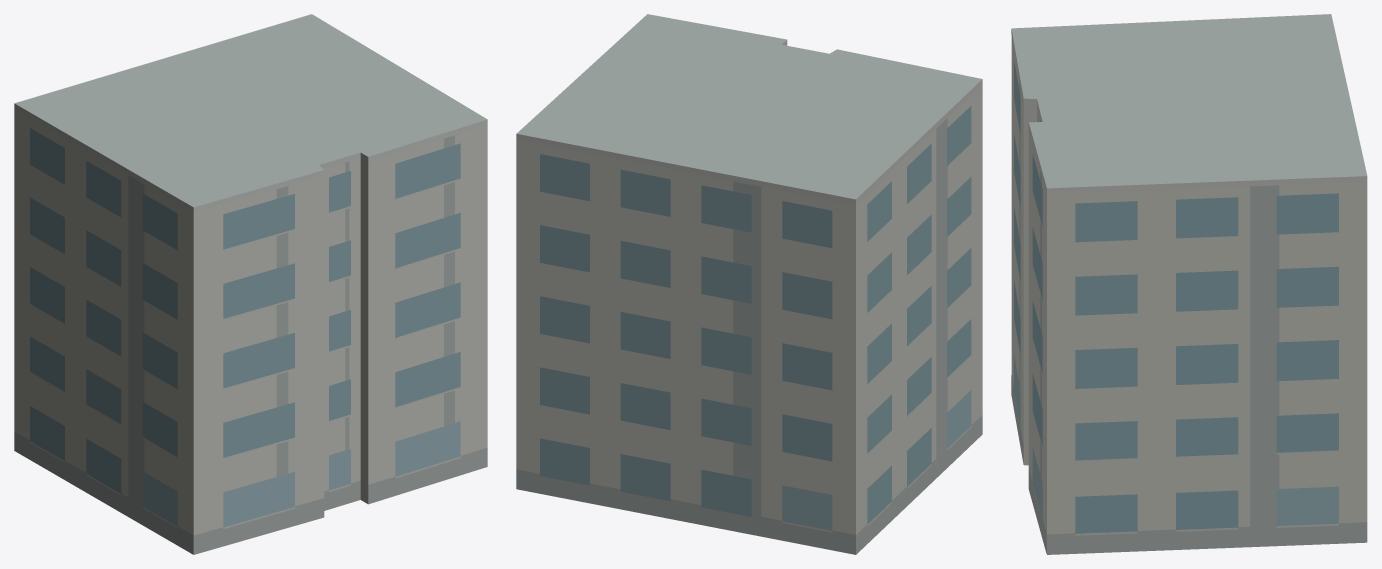
File: survey-upis-32745880.glb
3 views of the same model, side by side, from view 1: azimuth 30°, elevation 25°; view 2: azimuth 150°, elevation 25°; view 3: azimuth 270°, elevation 25° (orthographic). The views are drawn at different scales.
Visible parts, largest first — view 1: survey-upis-32745880.tmp; view 2: survey-upis-32745880.tmp; view 3: survey-upis-32745880.tmp.
Part boxes in pixels (box(x1,y1,x2,y2)): survey-upis-32745880.tmp: box(14, 14, 487, 554); survey-upis-32745880.tmp: box(516, 14, 982, 554); survey-upis-32745880.tmp: box(1011, 14, 1367, 554).
Bounding box in the file's own units: 15.56 × 15.25 × 13.43.
